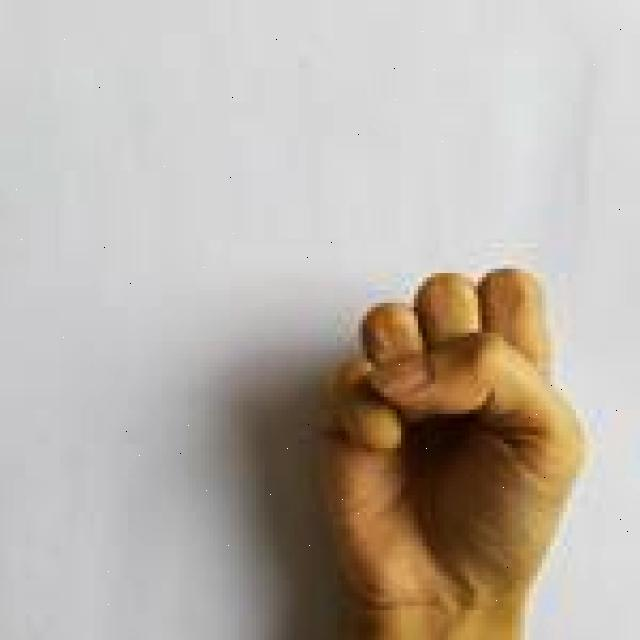S: (304, 263, 594, 640)
